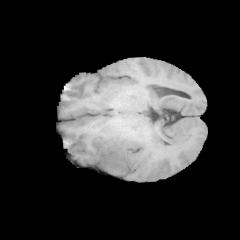glioma: (96, 139, 141, 177)
